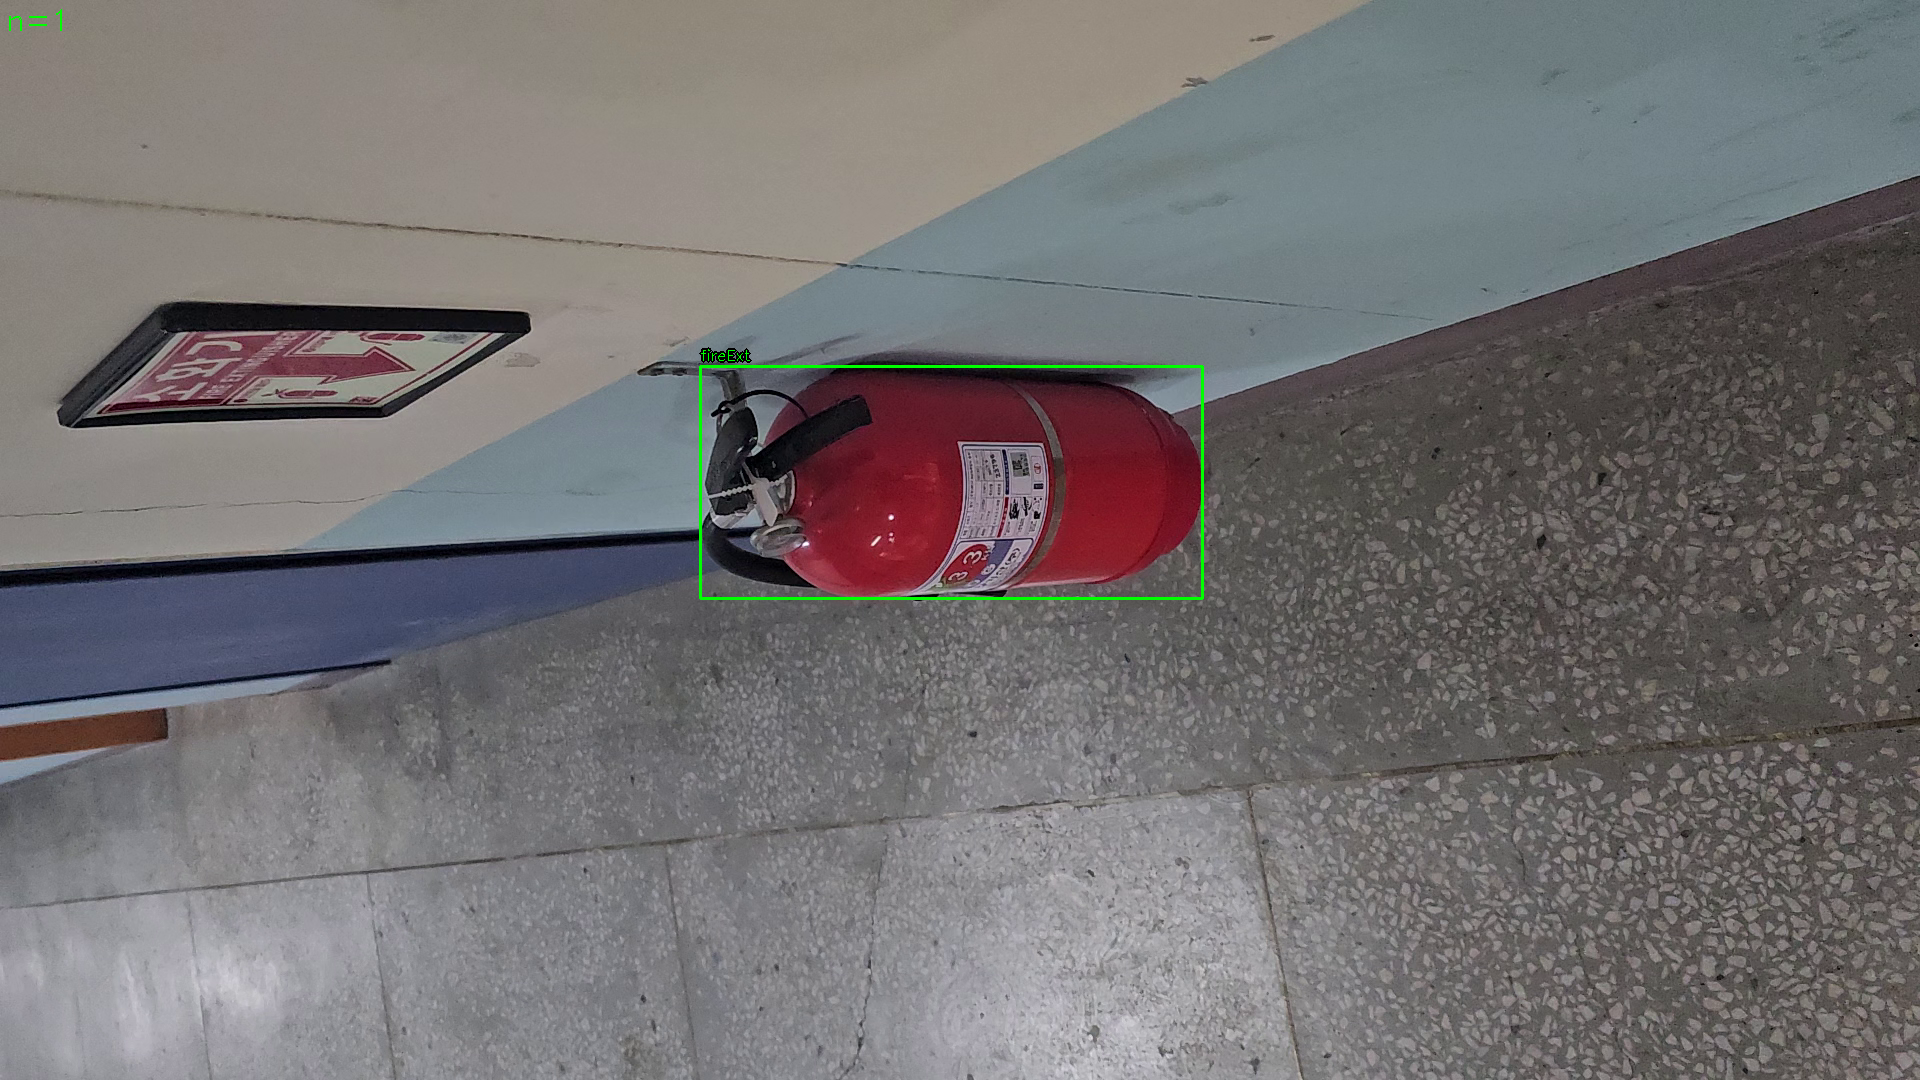lane: (700, 367, 1203, 599)
